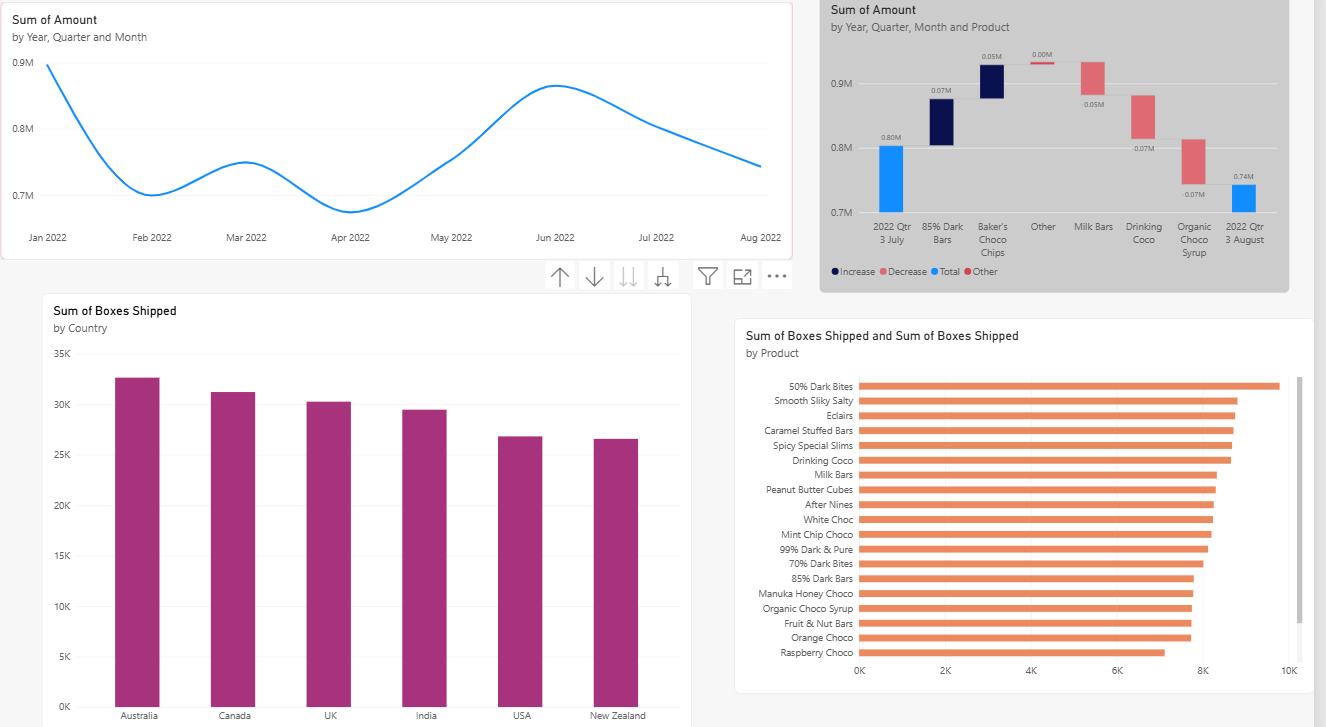

This screenshot's page, from the dashboard's own definition file:
{"tool":"powerbi","page":{"name":"Page 1","canvas":[1920,1080],"ordinal":0},"visuals":[{"type":"columnChart","fields":{"Category":["data.Country"],"Y":["Sum(data.Boxes Shipped)"]},"box":[77.8,436.1,941,644.2],"z":0},{"type":"clusteredBarChart","fields":{"Category":["data.Product"],"Y":["Sum(data.Boxes Shipped)"]},"box":[1080.4,472.3,839.7,542.9],"z":1},{"type":"lineChart","fields":{"Category":["data.Date.Variation.Date Hierarchy.Year","data.Date.Variation.Date Hierarchy.Quarter","data.Date.Variation.Date Hierarchy.Month","data.Date.Variation.Date Hierarchy.Day"],"Y":["Sum(data.Amount)"]},"box":[18.1,14.5,1147.3,372.8],"z":2},{"type":"waterfallChart","fields":{"Breakdown":["data.Product"],"Category":["data.Date.Variation.Date Hierarchy.Year","data.Date.Variation.Date Hierarchy.Quarter","data.Date.Variation.Date Hierarchy.Month"],"Y":["Sum(data.Amount)"]},"box":[1203.4,0,680.4,436.1],"z":3}]}

Visuals, with their boxes in screenshot pixels (x1, y1, x2, y2), scaled from the page's 1920x1080 canvas onto the 1326x727 screenshot:
columnChart - data.Country x Sum(data.Boxes Shipped): 54 294 704 726
clusteredBarChart - data.Product x Sum(data.Boxes Shipped): 746 318 1325 683
lineChart - data.Date.Variation.Date Hierarchy.Year x data.Date.Variation.Date Hierarchy.Quarter: 13 10 805 261
waterfallChart - data.Product x data.Date.Variation.Date Hierarchy.Year: 831 0 1301 294
